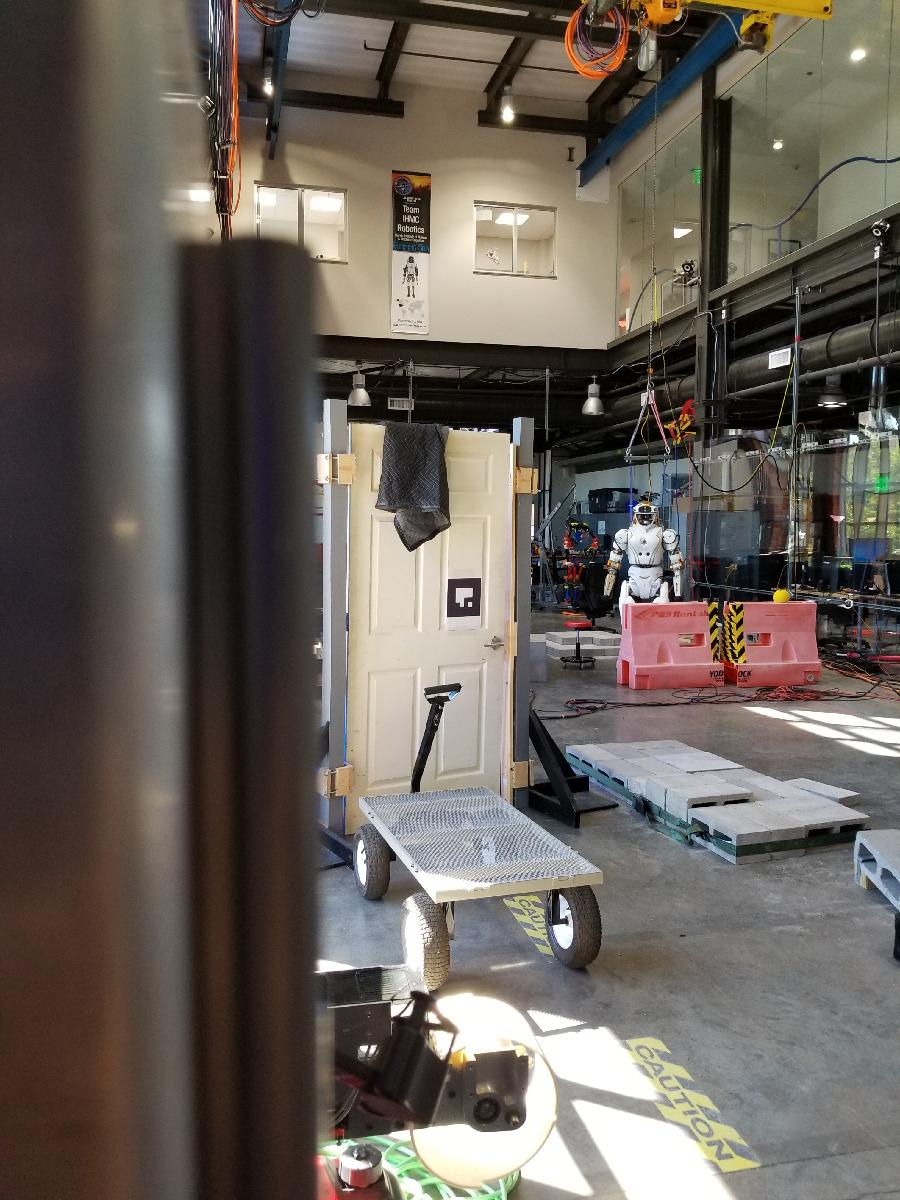door: (341, 417, 519, 844)
doorHandle: (477, 636, 506, 655)
